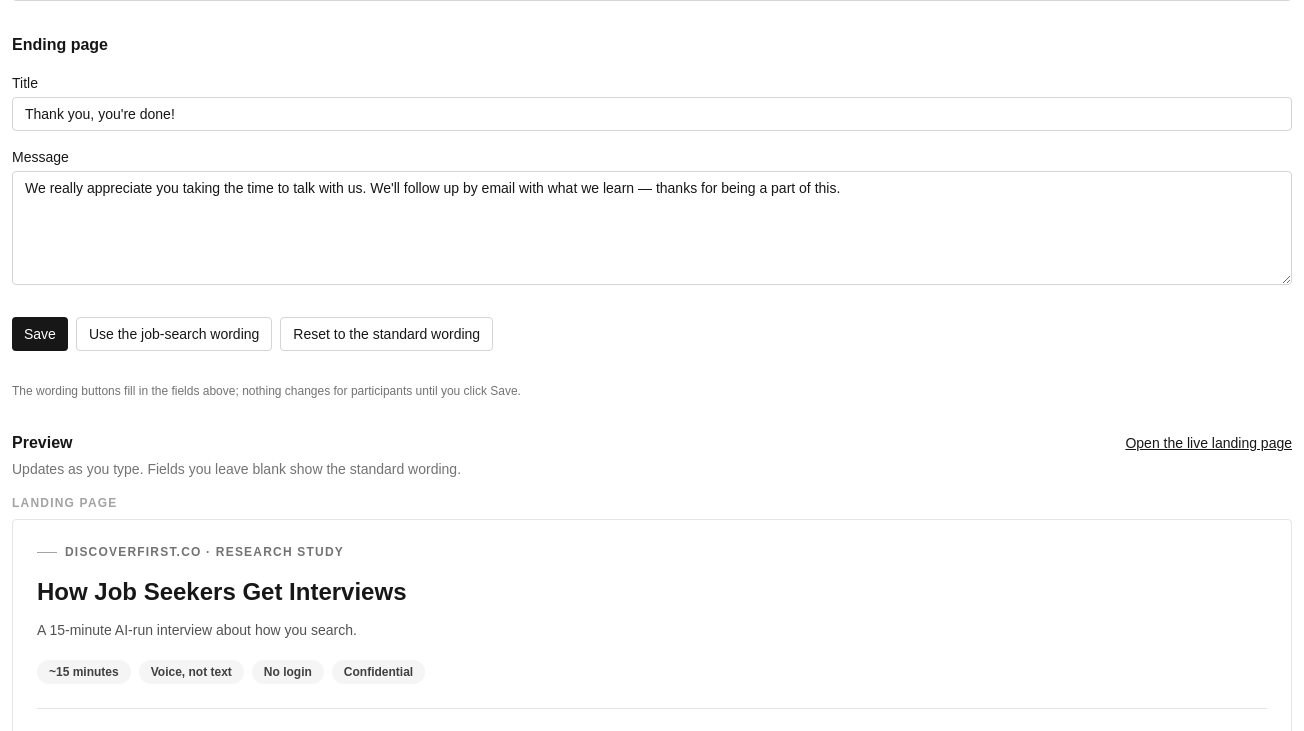
Test case: ParticipantPagesForm › shows the reasons when saving fails
The width and height of the screenshot is (1304, 731).
(page scrolled)
Click the button "Save" at [40, 334], box 12,317 -> 68,351
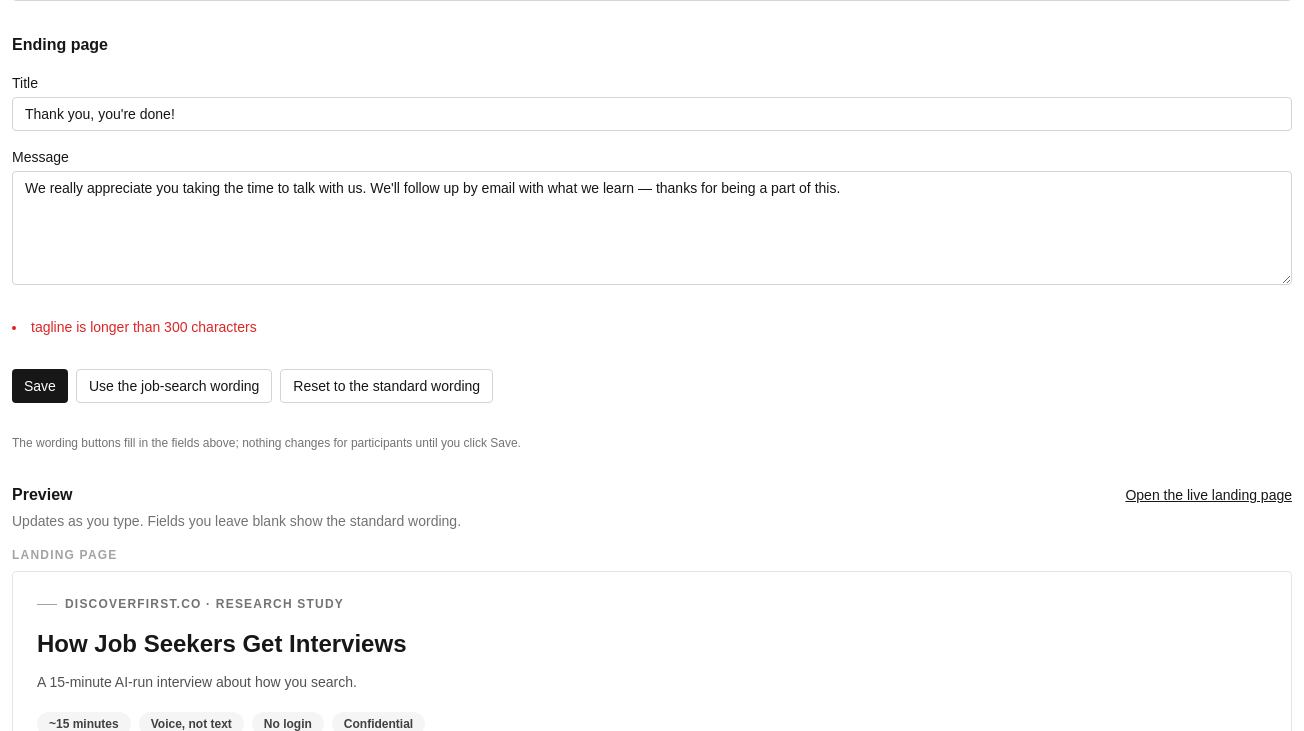
Result: the message reads "tagline is longer than 300 characters" at 31,319 -> 257,335
